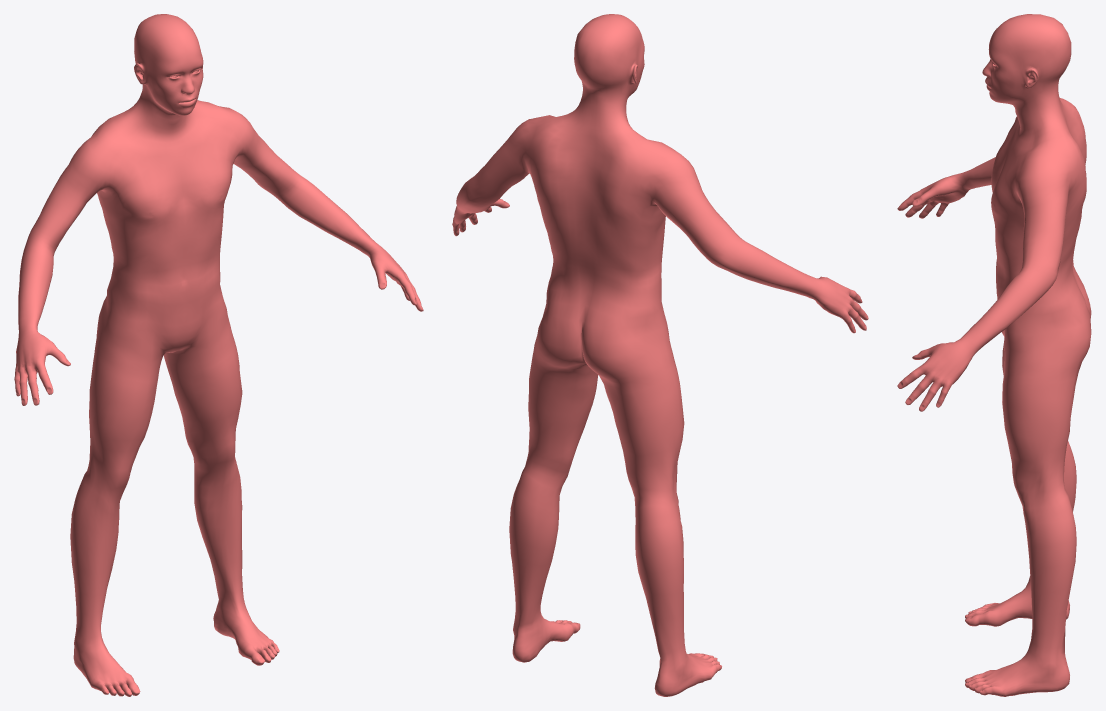
3 views of the same model, side by side, from view 1: azimuth 30°, elevation 25°; view 2: azimuth 150°, elevation 25°; view 3: azimuth 270°, elevation 25° (orthographic).
Parts seen in each view (by area): view 1: Human; view 2: Human; view 3: Human.
Part boxes in pixels (bbox=[...]): Human: bbox=[14, 14, 423, 696]; Human: bbox=[452, 14, 868, 696]; Human: bbox=[897, 14, 1091, 696].
Size of the model in its own units: 1.11 by 1.7 by 0.4681.
